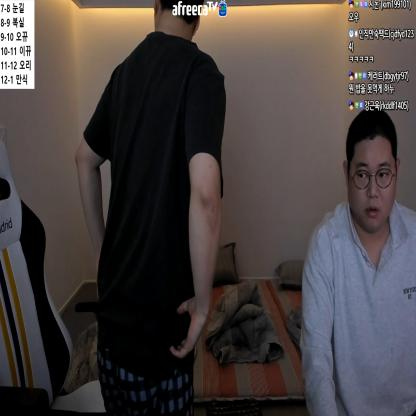streamer: (74, 0, 226, 416), (300, 108, 416, 416)
